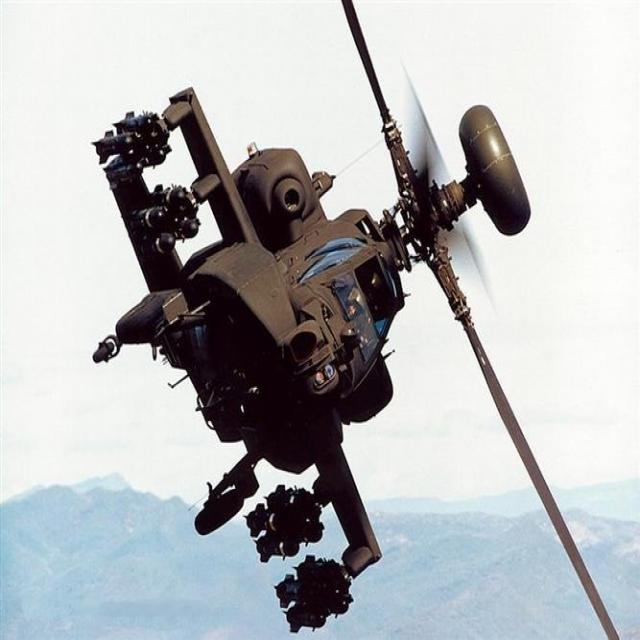MIL_HELO: (70, 0, 640, 640)
